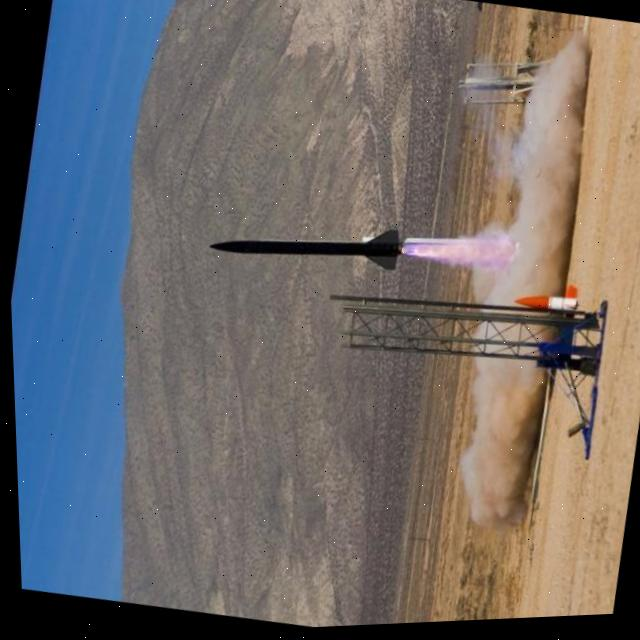missile: (205, 201, 404, 294)
